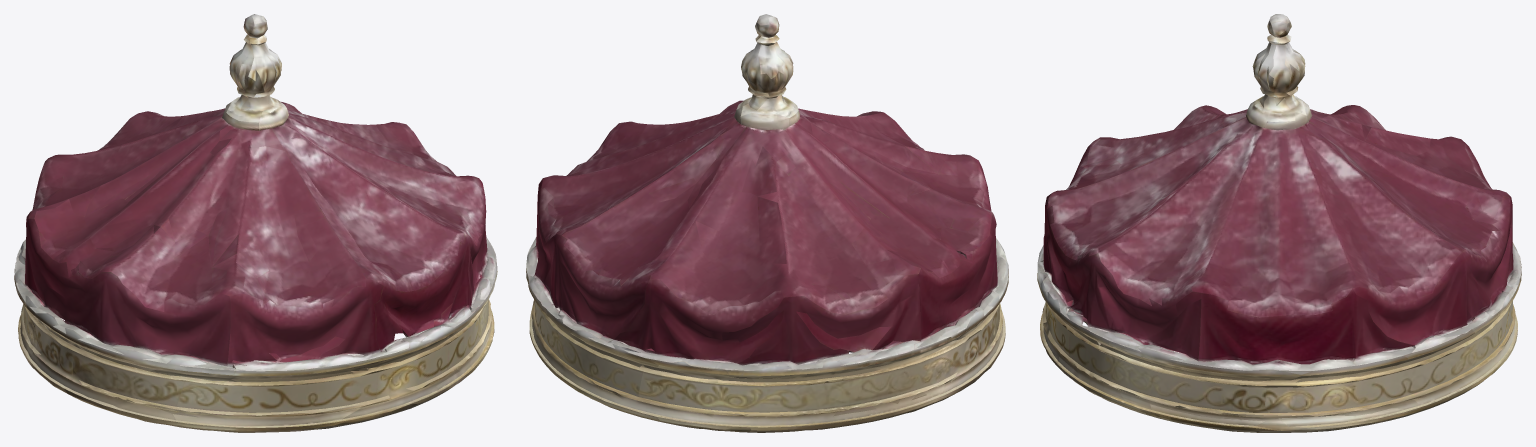
File: aholo-g1-canopy.glb
The picture shows the model from 3 angles, left to right: view 1: azimuth 30°, elevation 25°; view 2: azimuth 150°, elevation 25°; view 3: azimuth 270°, elevation 25°; orthographic projection.
Parts seen in each view (by area): view 1: geometry_0; view 2: geometry_0; view 3: geometry_0.
Boxes of the visible parts, x1,y1,x2,y2 form: geometry_0: (14,14,497,432); geometry_0: (526,14,1008,432); geometry_0: (1037,14,1521,432).
Size of the model in its own units: 1.8 by 1.31 by 1.8.
Materials: 1 (1 with a texture image).
